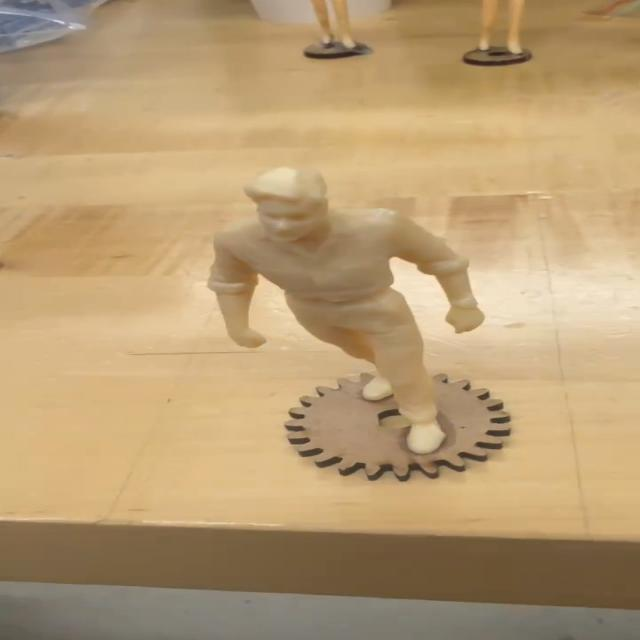Unauthorized: (151, 149, 514, 469)
